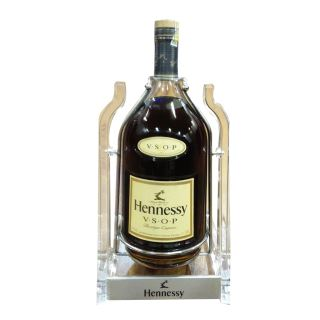Hennessy: (112, 17, 215, 277)
